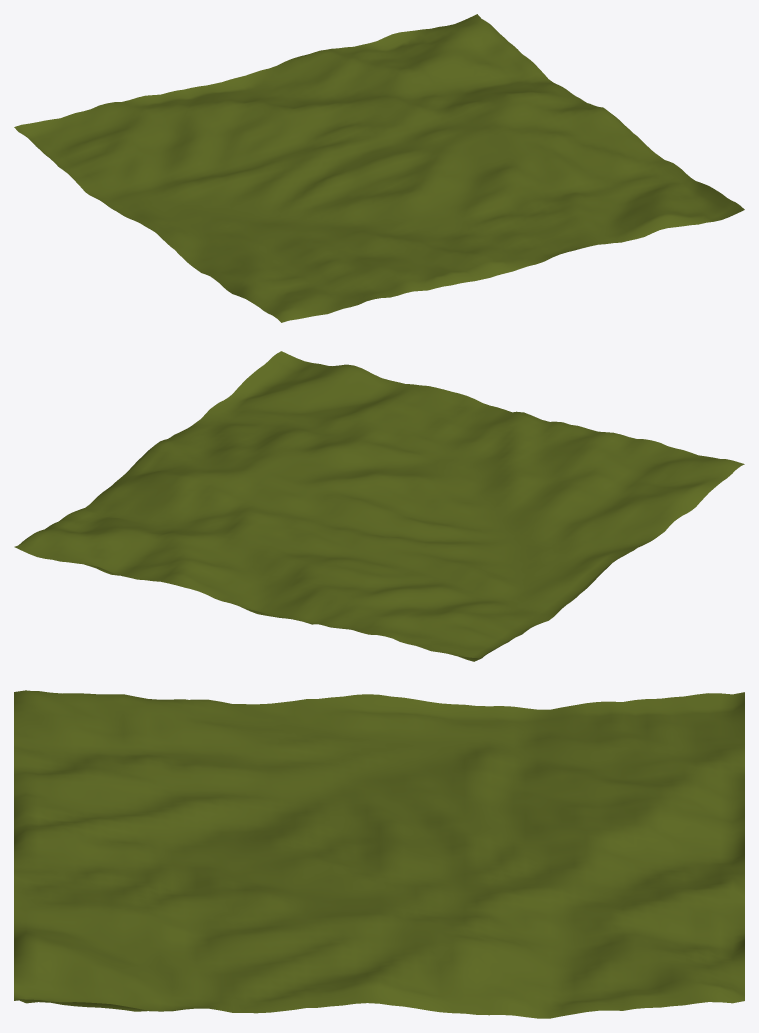
Rendered from 0_0_woodlands.glb.
3 views of the same model, one above another, from view 1: azimuth 30°, elevation 25°; view 2: azimuth 150°, elevation 25°; view 3: azimuth 270°, elevation 25° (orthographic). The views are drawn at different scales.
Parts seen in each view (by area): view 1: 0_0_woodlands; view 2: 0_0_woodlands; view 3: 0_0_woodlands.
Part boxes in pixels (x1=…): 0_0_woodlands: x1=14, y1=14, x2=744, y2=322; 0_0_woodlands: x1=14, y1=351, x2=744, y2=661; 0_0_woodlands: x1=14, y1=690, x2=744, y2=1018.
Bounding box in the file's own units: 300 × 15.92 × 300.
